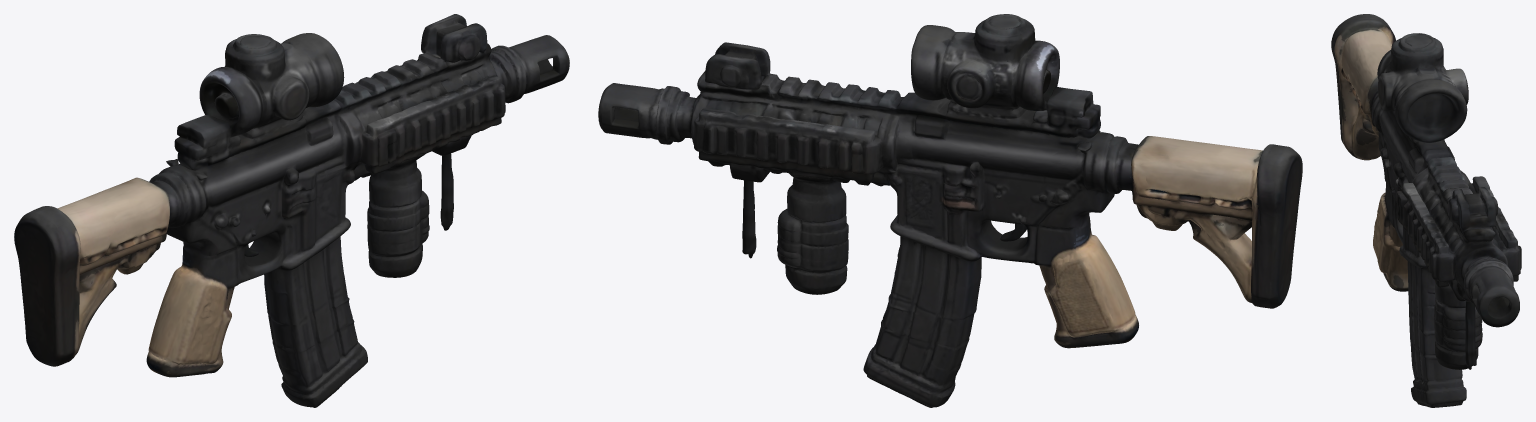
3 renders of one model, left to right at view 1: azimuth 30°, elevation 25°; view 2: azimuth 150°, elevation 25°; view 3: azimuth 270°, elevation 25°, orthographic. The views are drawn at different scales.
Visible parts, largest first — view 1: gun; view 2: gun; view 3: gun.
Boxes of the visible parts, box(x1,y1,x2,y2) form: gun: box(14, 14, 569, 407); gun: box(598, 14, 1302, 407); gun: box(1331, 14, 1521, 407).
Size of the model in its own units: 0.2653 by 0.1593 by 0.0814.
1 material, 1 textured.
